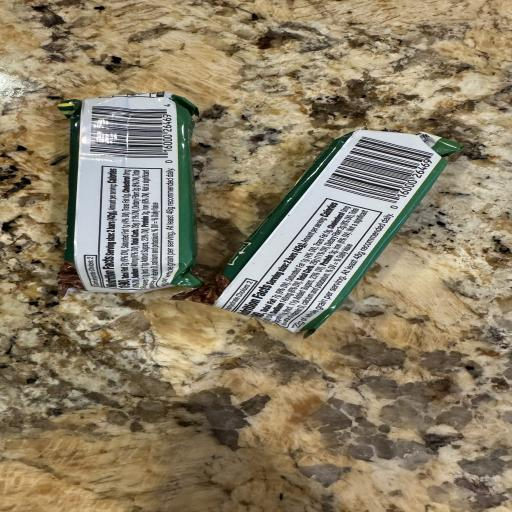granola: (175, 130, 462, 335), (59, 92, 200, 295)
